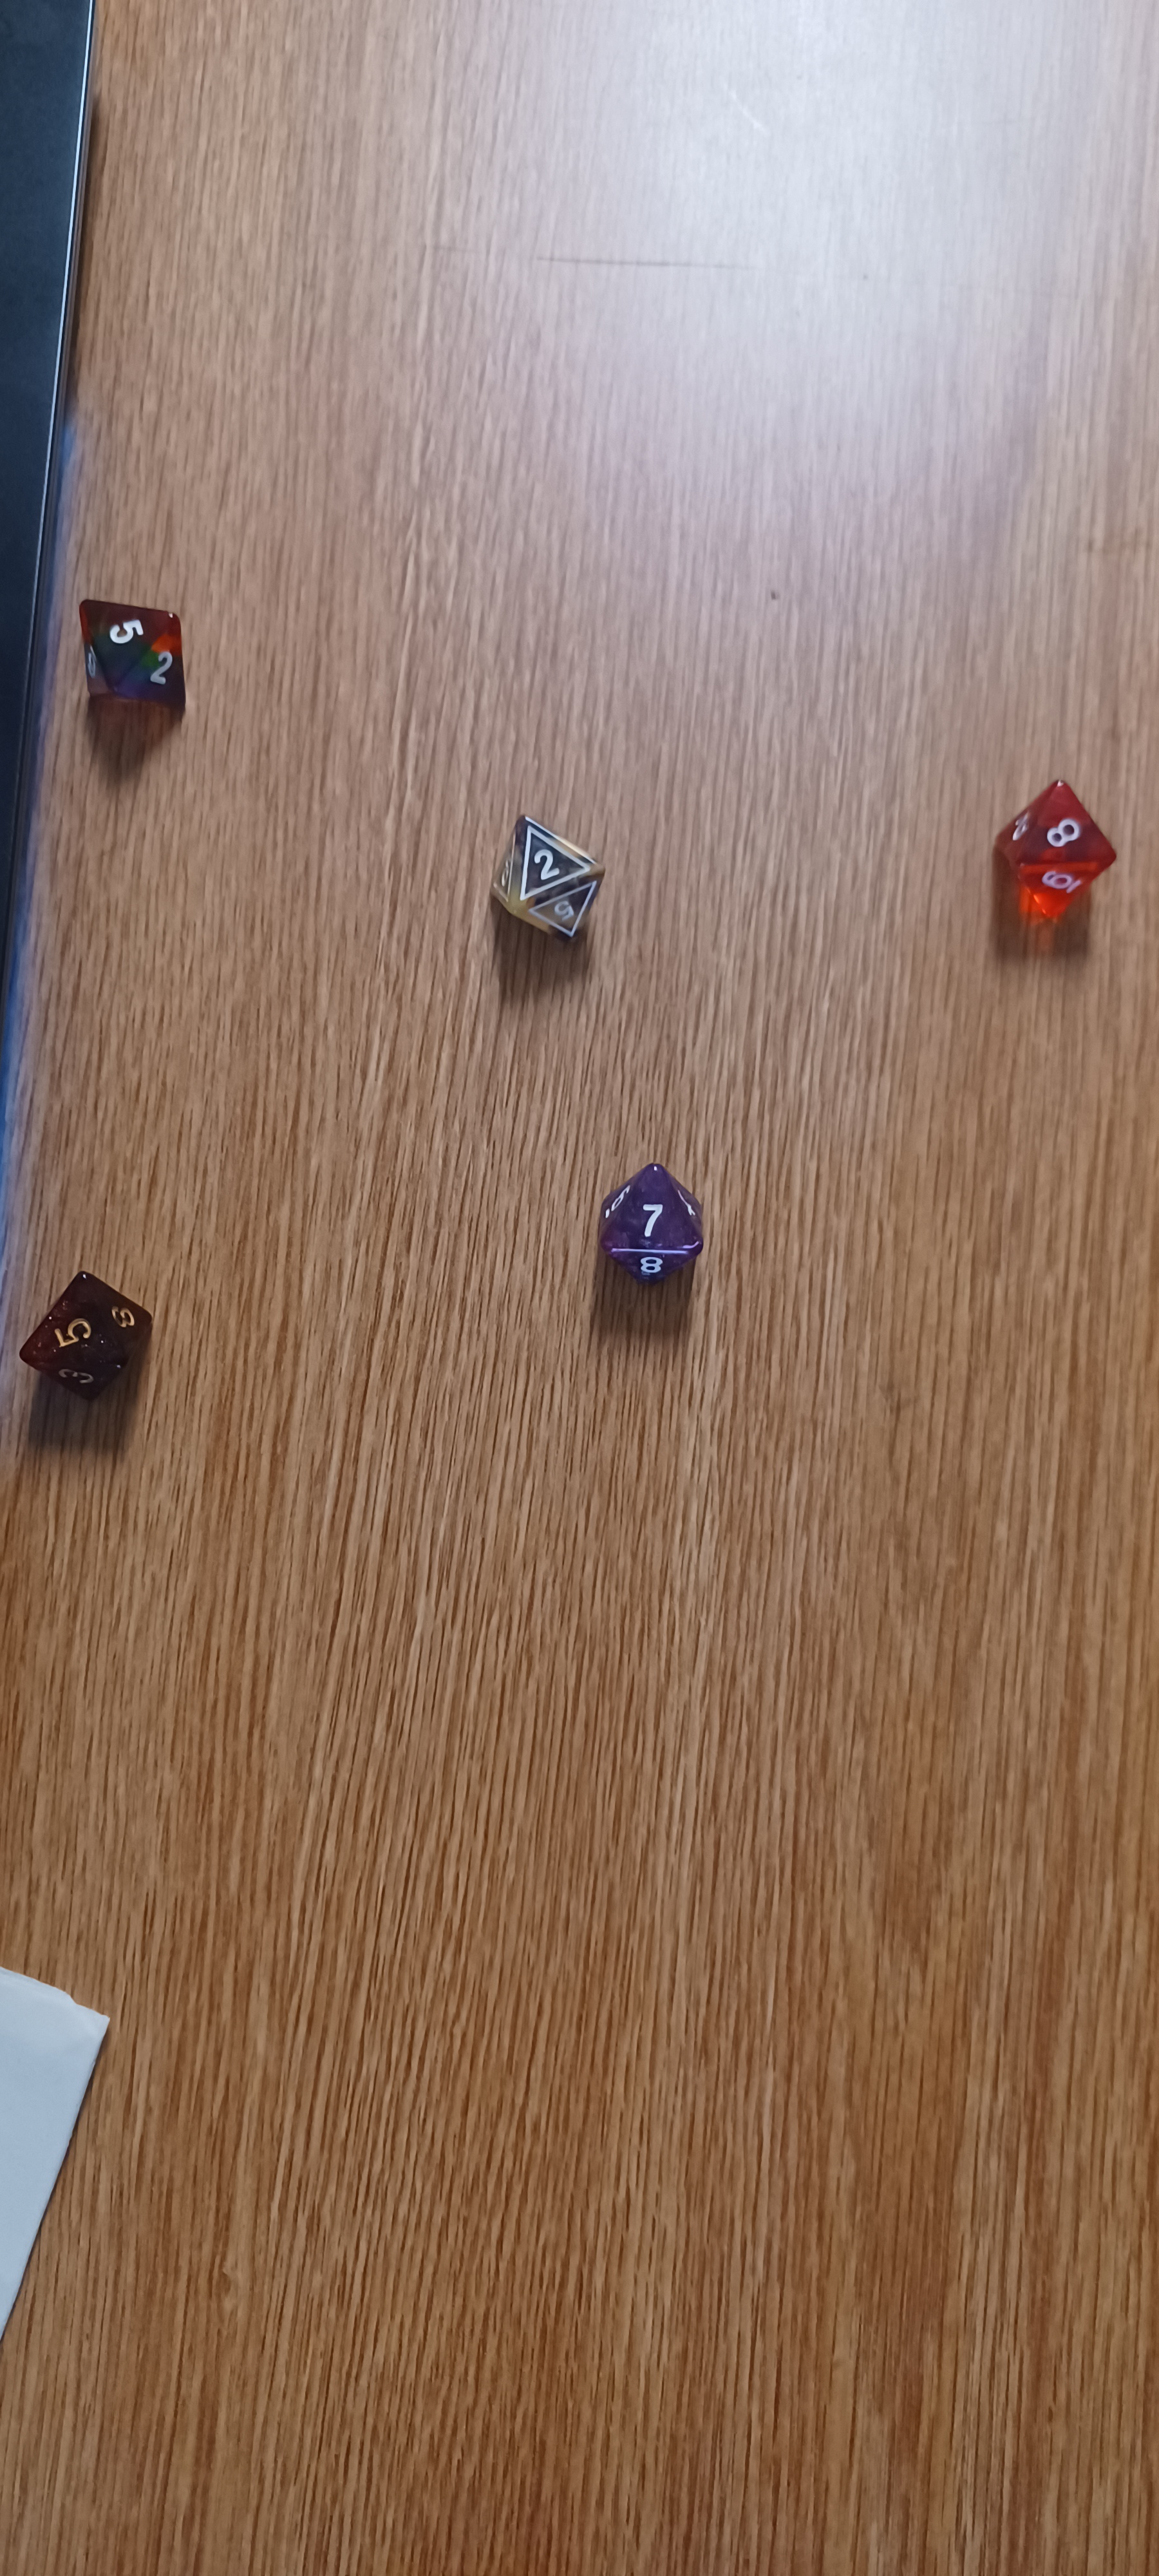eight: (939, 749, 1149, 951)
five: (7, 1244, 189, 1441), (39, 560, 222, 744)
seven: (558, 1138, 752, 1318)
two: (460, 784, 634, 974)
